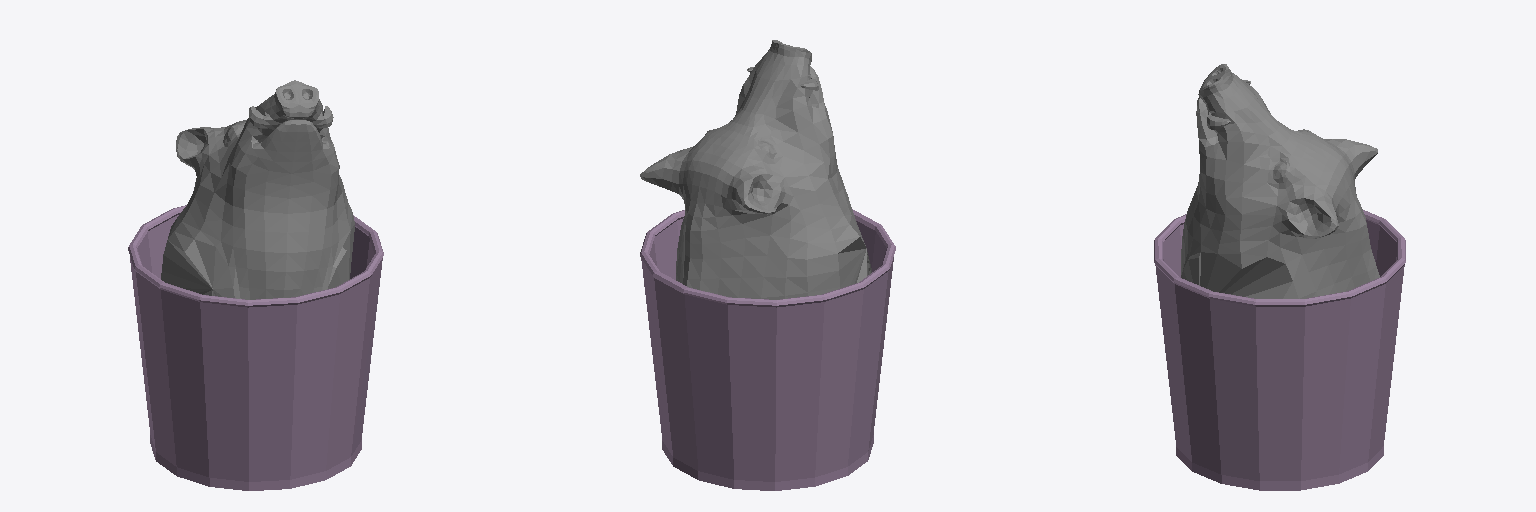
The model's file is bucket.obj.
3 renders of one model, left to right at view 1: azimuth 30°, elevation 25°; view 2: azimuth 150°, elevation 25°; view 3: azimuth 270°, elevation 25°, orthographic.
Parts seen in each view (by area): view 1: kfc_reference, Boar_Boar.001; view 2: kfc_reference, Boar_Boar.001; view 3: kfc_reference, Boar_Boar.001.
Part boxes in pixels (x1,y1,x2,y2): kfc_reference: (128, 205, 383, 490); Boar_Boar.001: (161, 80, 354, 299); kfc_reference: (640, 209, 895, 490); Boar_Boar.001: (640, 40, 871, 299); kfc_reference: (1154, 210, 1405, 490); Boar_Boar.001: (1181, 64, 1379, 298).
Size of the model in its own units: 0.2392 by 0.3983 by 0.2392.